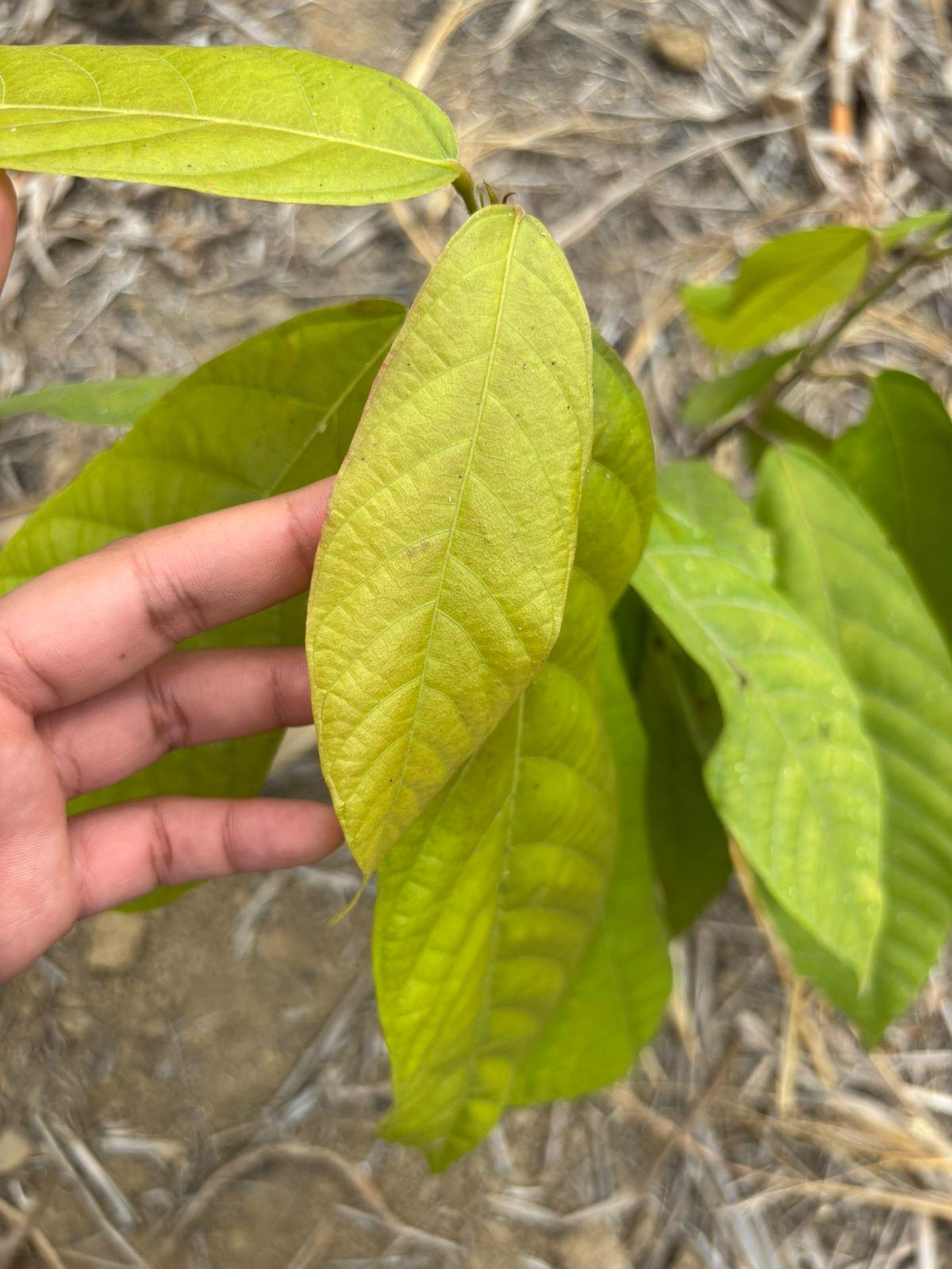deficiencia_nitrogeno: (305, 207, 592, 874), (0, 46, 461, 205)
